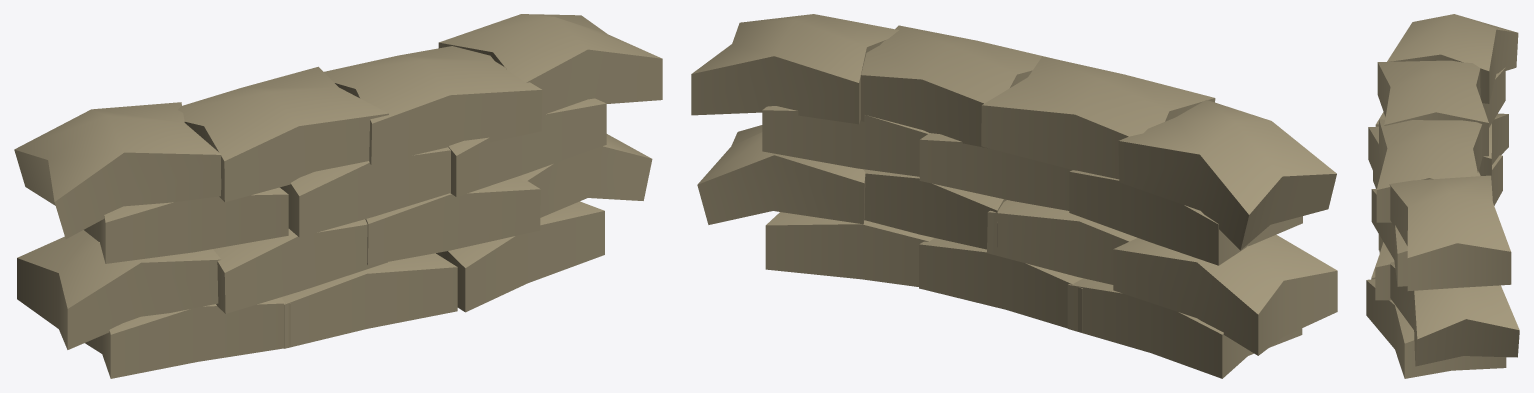
The model's file is SackTrench.glb.
The picture shows the model from 3 angles, left to right: view 1: azimuth 30°, elevation 25°; view 2: azimuth 150°, elevation 25°; view 3: azimuth 270°, elevation 25°; orthographic projection. The views are drawn at different scales.
Parts seen in each view (by area): view 1: SackTrench; view 2: SackTrench; view 3: SackTrench.
Part boxes in pixels (bbox=[...]): SackTrench: bbox=[14, 14, 662, 378]; SackTrench: bbox=[691, 14, 1337, 378]; SackTrench: bbox=[1366, 14, 1519, 378].
Bounding box in the file's own units: 3.35 × 1.28 × 0.9245.
